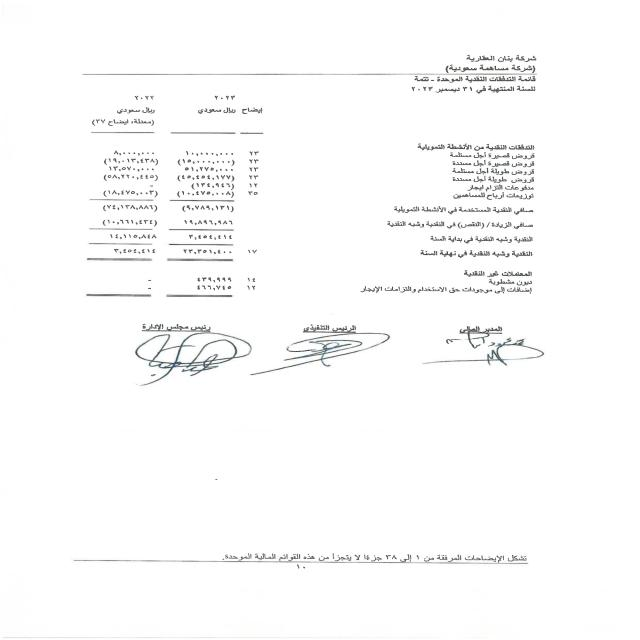financial_sheets: (410, 75, 552, 83)
table: (61, 87, 274, 313)
